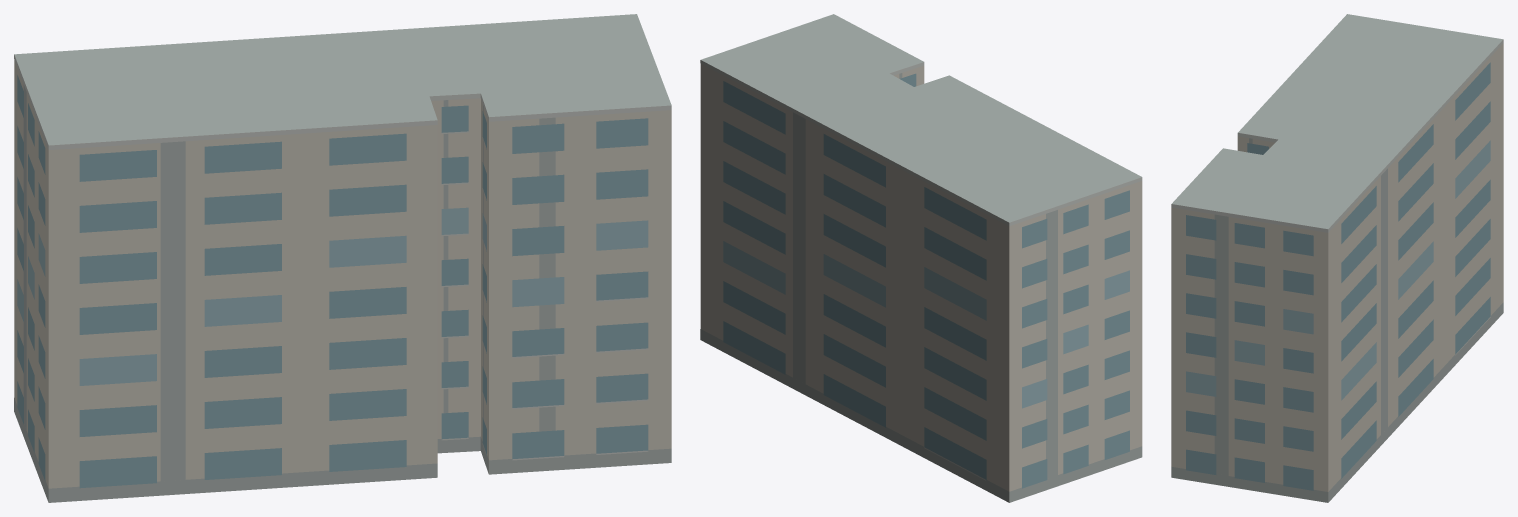
The model's file is survey-upis-32892230.glb.
The picture shows the model from 3 angles, left to right: view 1: azimuth 30°, elevation 25°; view 2: azimuth 150°, elevation 25°; view 3: azimuth 270°, elevation 25°; orthographic projection. The views are drawn at different scales.
Visible parts, largest first — view 1: survey-upis-32892230.tmp; view 2: survey-upis-32892230.tmp; view 3: survey-upis-32892230.tmp.
Part boxes in pixels (x1,y1,x2,y2): survey-upis-32892230.tmp: (14, 14, 671, 502); survey-upis-32892230.tmp: (700, 14, 1142, 502); survey-upis-32892230.tmp: (1171, 14, 1503, 502).
Bounding box in the file's own units: 31.38 × 18.6 × 20.47.
